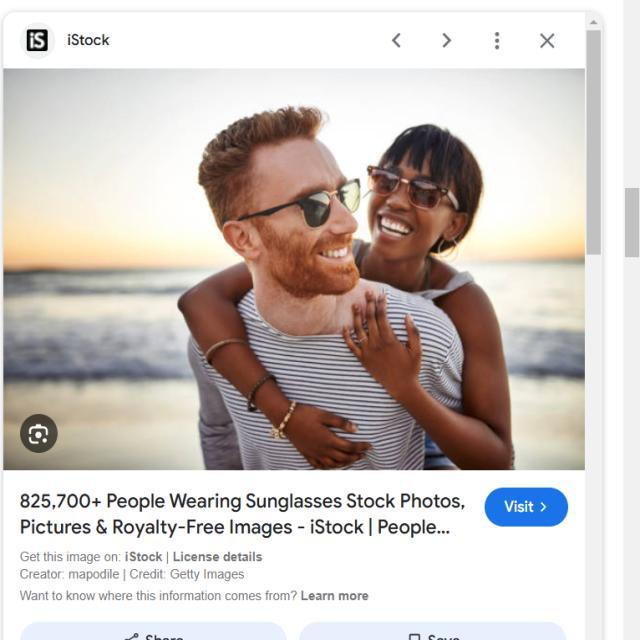face_no_mask: (223, 143, 361, 298), (368, 139, 470, 258)
